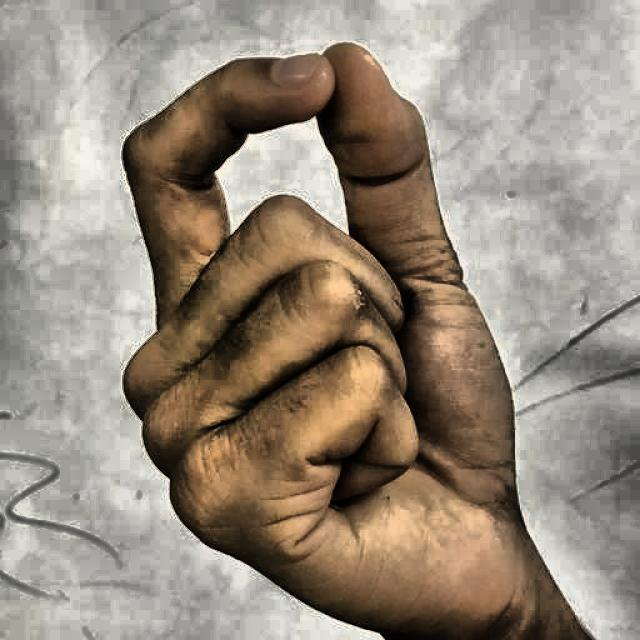Gha: (90, 28, 575, 640)
